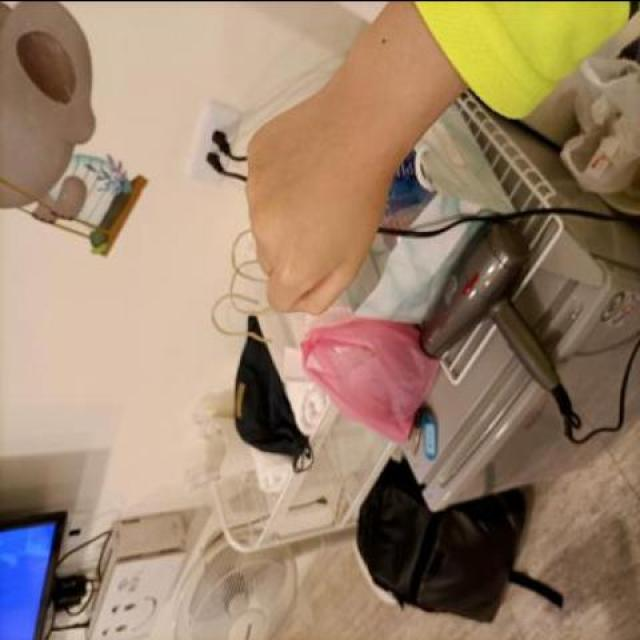Closed Hand: (235, 93, 418, 323)
